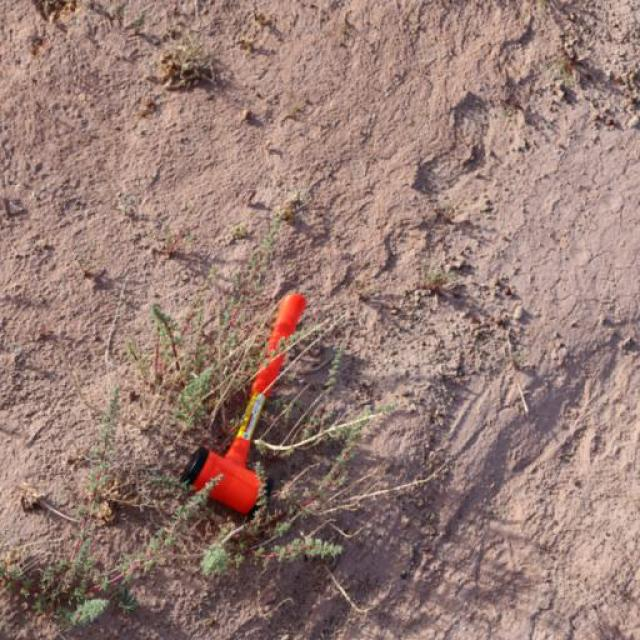mallet: (178, 290, 306, 516)
